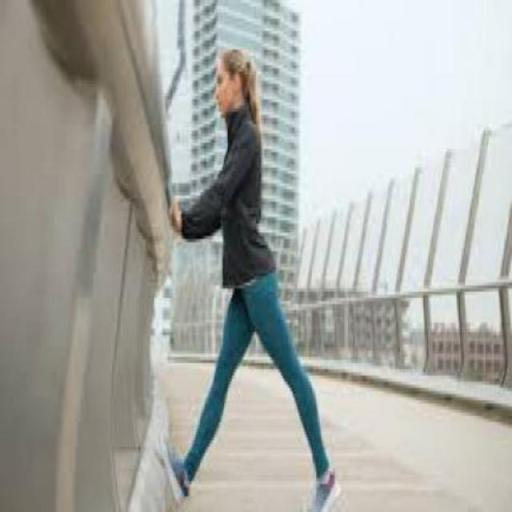Running: (89, 22, 387, 510)
